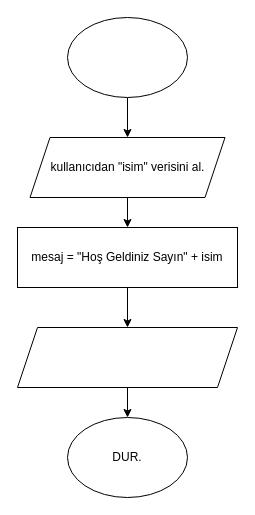
Image size: 255x515. Some labels were removed from this diagram. Here are the shapes that lost their labels. From the top down, the box of each, then its label:
(66, 16, 188, 98): BAŞLA.
(16, 326, 238, 388): ekrana "mesaj" değişkeni yazdır.
